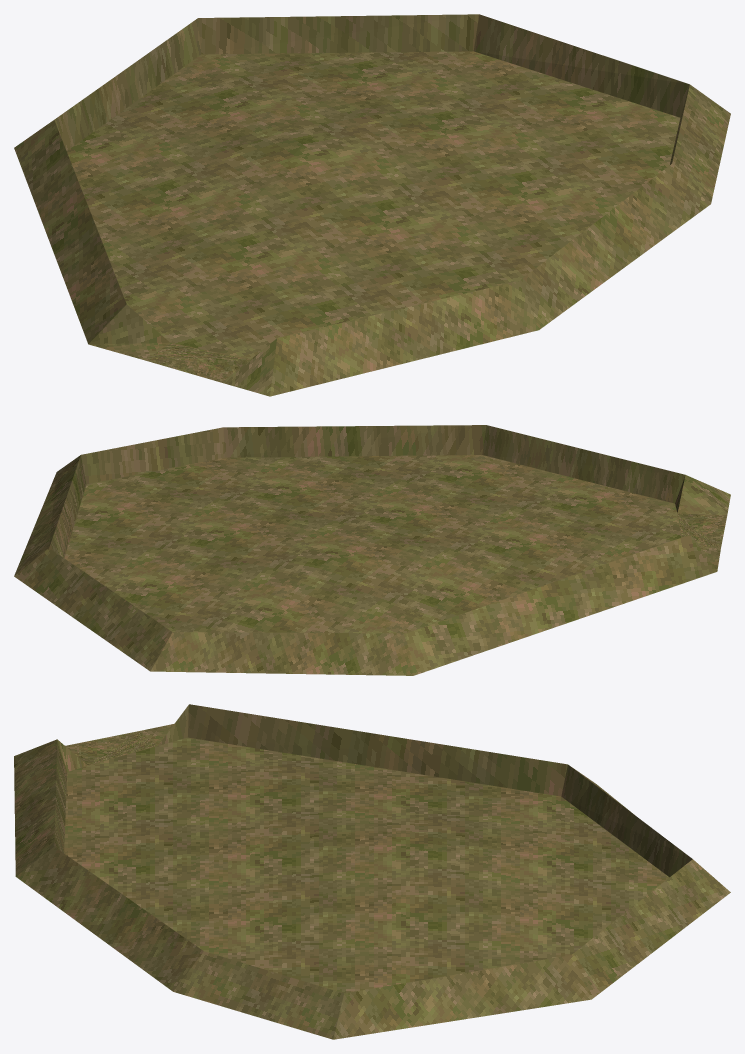
File: con_lighth_lod.obj
The picture shows the model from 3 angles, top to bottom: view 1: azimuth 30°, elevation 25°; view 2: azimuth 150°, elevation 25°; view 3: azimuth 270°, elevation 25°; orthographic projection. The views are drawn at different scales.
Visible parts, largest first — view 1: con_lighth_LOD; view 2: con_lighth_LOD; view 3: con_lighth_LOD.
Boxes of the visible parts, x1,y1,x2,y2 form: con_lighth_LOD: (14, 14, 730, 396); con_lighth_LOD: (14, 425, 730, 675); con_lighth_LOD: (14, 704, 730, 1039).
Bounding box in the file's own units: 20.76 × 0.9368 × 19.64.
Materials: 1 (1 with a texture image).
